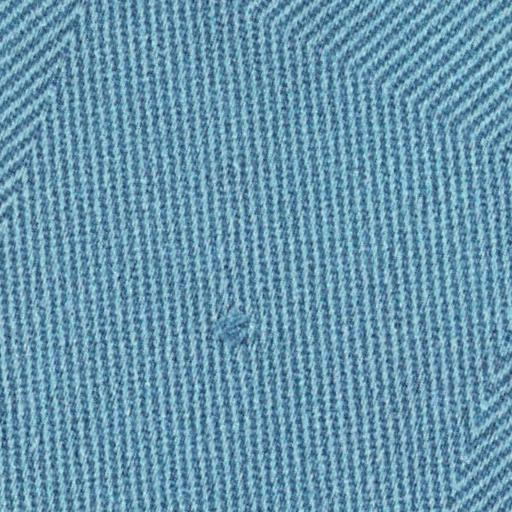knot: (196, 300, 263, 356)
